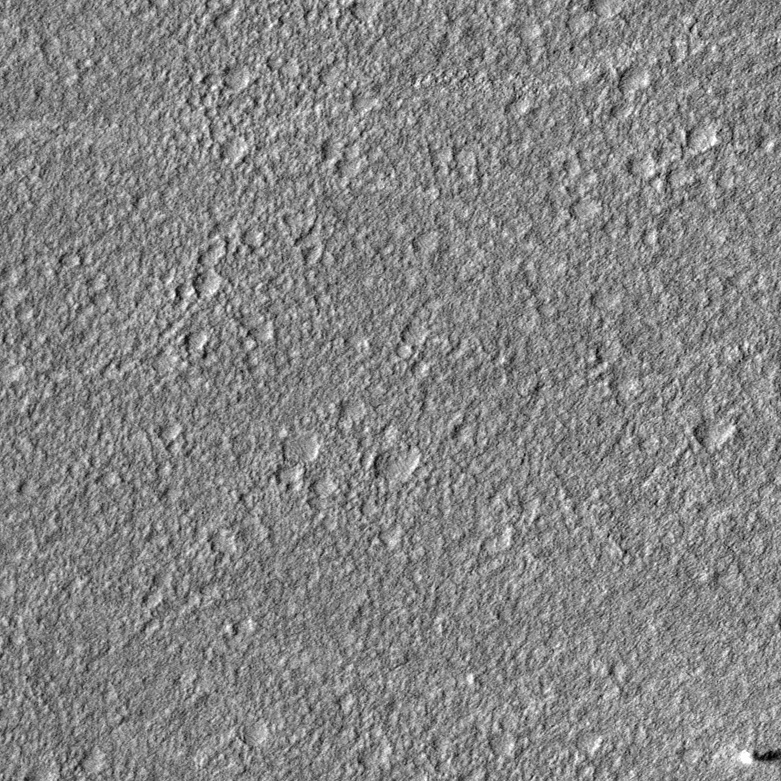dust_devil: (736, 746, 781, 768)
